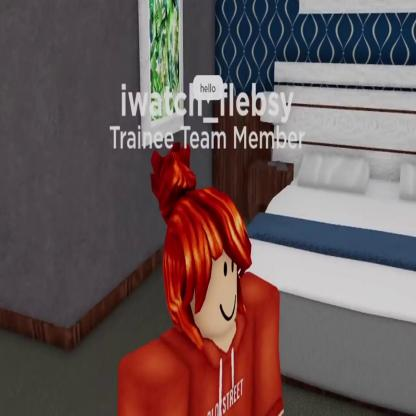Roblox-Avatar: (119, 143, 285, 416)
